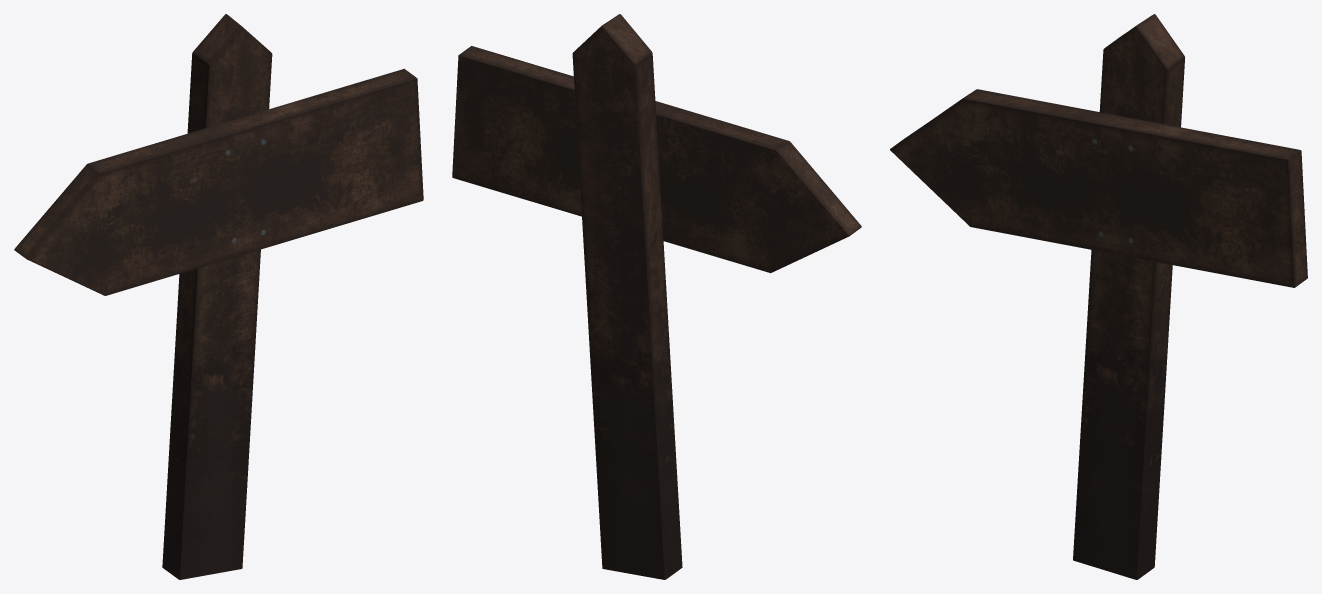
Rendered from SignPost.fbx.
The picture shows the model from 3 angles, left to right: view 1: azimuth 30°, elevation 25°; view 2: azimuth 150°, elevation 25°; view 3: azimuth 330°, elevation 25°; orthographic projection. The views are drawn at different scales.
Parts seen in each view (by area): view 1: pCube3; view 2: pCube3; view 3: pCube3.
Part boxes in pixels (x1,y1,x2,y2): pCube3: (14, 14, 423, 579); pCube3: (452, 14, 861, 579); pCube3: (890, 14, 1307, 579).
Bounding box in the file's own units: 141 × 183 × 19.01.
